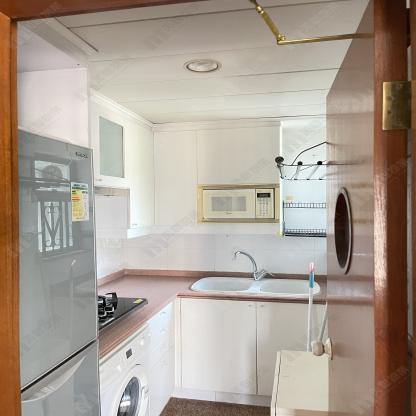Cupboard: (88, 93, 280, 228), (148, 298, 329, 416)
Faucet: (227, 247, 273, 280)
Fridge: (15, 129, 99, 416)
Microwave: (194, 183, 280, 225)
Sink: (188, 277, 320, 296)
Stove: (94, 287, 149, 339)
Washing Machine: (98, 325, 152, 416)
